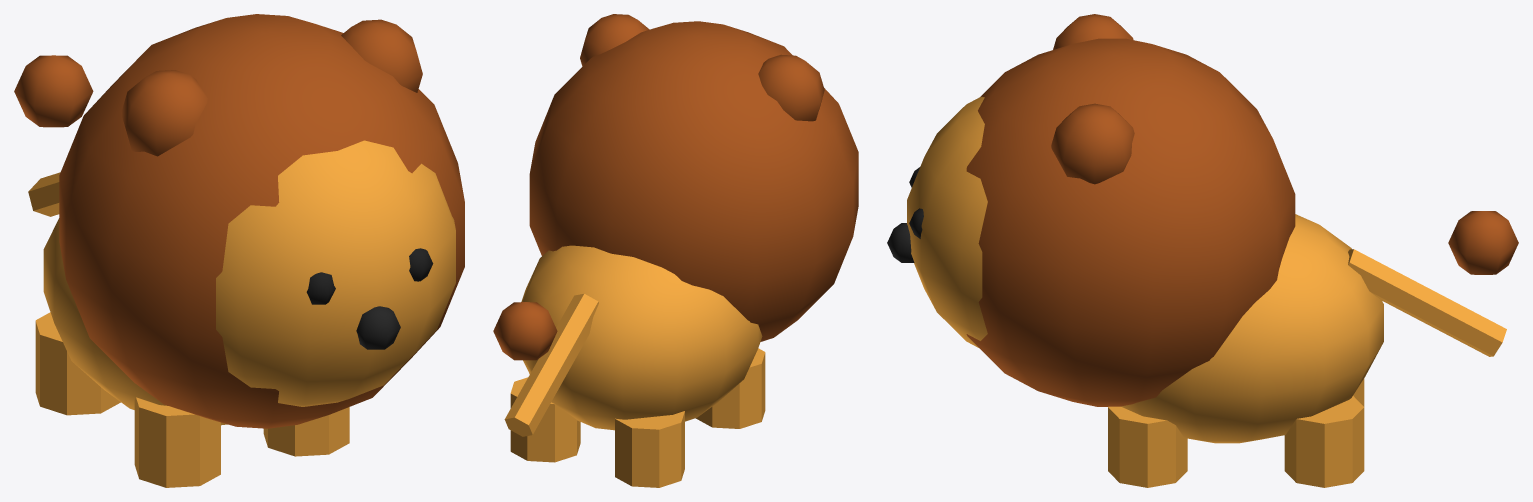
File: pet_lion.glb
3 renders of one model, left to right at view 1: azimuth 30°, elevation 25°; view 2: azimuth 150°, elevation 25°; view 3: azimuth 270°, elevation 25°, orthographic. The views are drawn at different scales.
Parts seen in each view (by area): view 1: Mane, Head, Paw, Ear, Body, Paw2, TailTip, Ear.001, Paw.001, Nose, Tail, Eye (+1 smaller); view 2: Mane, Body, Paw2, Tail, Ear, Paw2.001, TailTip, Paw, Ear.001; view 3: Mane, Body, Head, Paw2.001, Tail, Paw.001, Ear.001, TailTip, Ear, Nose.
Boxes of the visible parts, <box> form: Mane: <box>59,14,464,428</box>; Head: <box>216,140,455,406</box>; Paw: <box>134,397,220,487</box>; Ear: <box>121,70,207,156</box>; Body: <box>43,218,227,425</box>; Paw2: <box>35,312,120,415</box>; TailTip: <box>14,55,93,127</box>; Ear.001: <box>341,19,422,92</box>; Paw.001: <box>263,407,349,456</box>; Nose: <box>356,306,400,349</box>; Tail: <box>28,172,60,216</box>; Eye: <box>306,272,335,304</box>; Mane: <box>529,21,858,341</box>; Body: <box>521,245,762,430</box>; Paw2: <box>615,411,684,487</box>; Tail: <box>504,293,598,436</box>; Ear: <box>758,54,824,121</box>; Paw2.001: <box>510,377,580,462</box>; TailTip: <box>493,302,557,360</box>; Paw: <box>695,348,765,428</box>; Ear.001: <box>580,14,649,66</box>; Mane: <box>966,38,1295,406</box>; Body: <box>1121,214,1383,443</box>; Head: <box>907,96,987,347</box>; Paw2.001: <box>1284,396,1364,487</box>; Tail: <box>1348,249,1506,356</box>; Paw.001: <box>1108,406,1187,487</box>; Ear.001: <box>1051,103,1134,184</box>; TailTip: <box>1448,211,1518,274</box>; Ear: <box>1053,14,1133,49</box>; Nose: <box>887,223,914,262</box>.
Bounding box in the file's own units: 0.8065 × 0.97 × 1.43.
